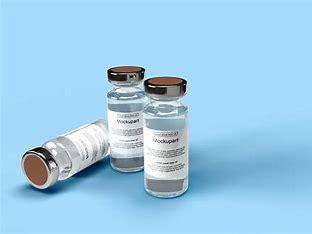Syringe: (15, 118, 109, 194), (142, 74, 192, 200), (104, 64, 150, 176)
